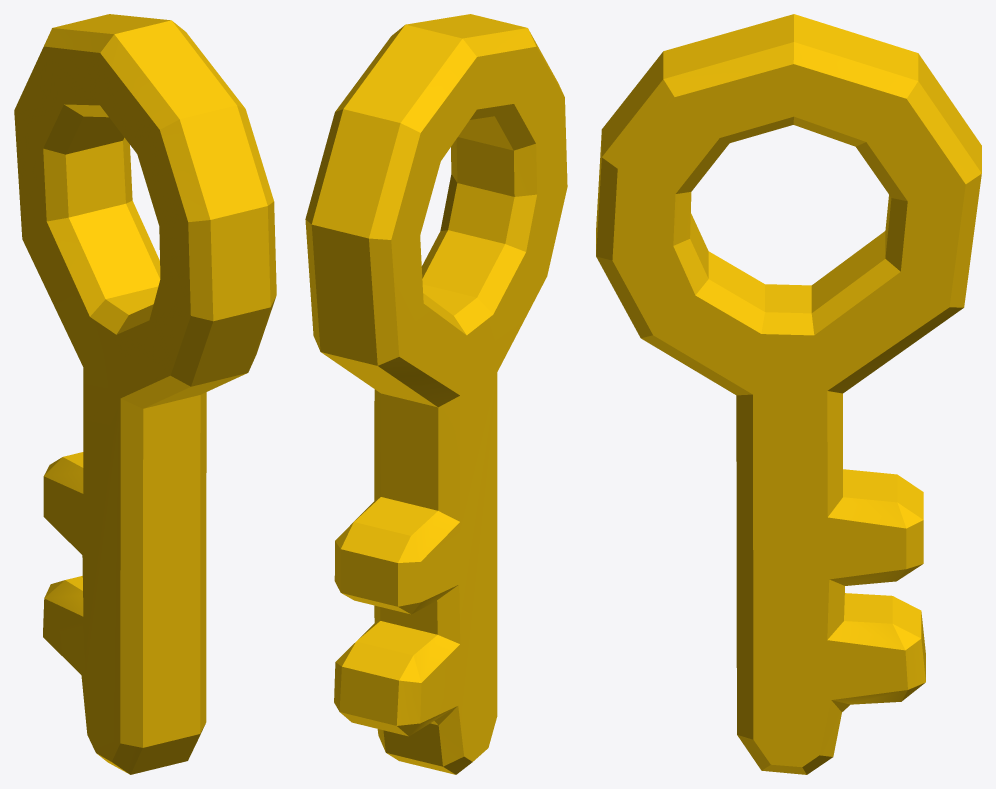
Rendered from key.obj.
The picture shows the model from 3 angles, left to right: view 1: azimuth 30°, elevation 25°; view 2: azimuth 150°, elevation 25°; view 3: azimuth 270°, elevation 25°; orthographic projection.
Visible parts, largest first — view 1: HJD_FP_Asset; view 2: HJD_FP_Asset; view 3: HJD_FP_Asset.
Boxes of the visible parts, x1,y1,x2,y2 form: HJD_FP_Asset: (14, 14, 276, 774); HJD_FP_Asset: (305, 14, 567, 774); HJD_FP_Asset: (596, 14, 981, 774).
Size of the model in its own units: 0.6035 by 4.89 by 2.33.
1 material, 1 textured.
